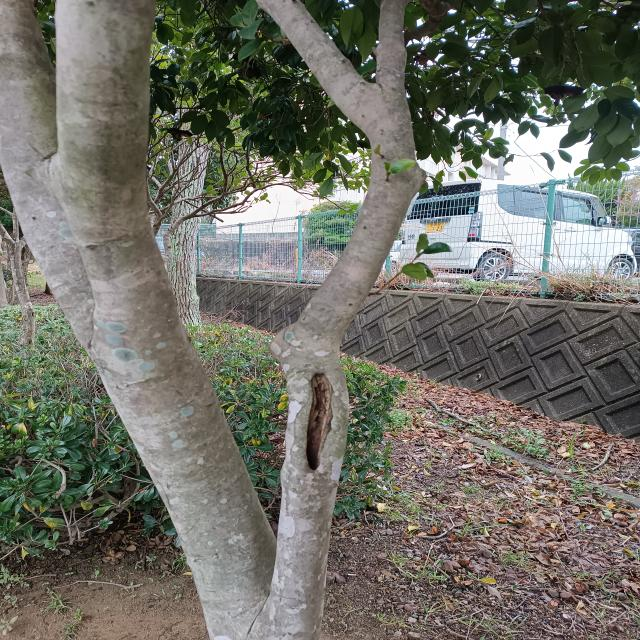Branch: (54, 1, 276, 616), (268, 82, 421, 609), (0, 0, 83, 350)
Twig: (257, 0, 367, 108), (376, 0, 410, 98)
